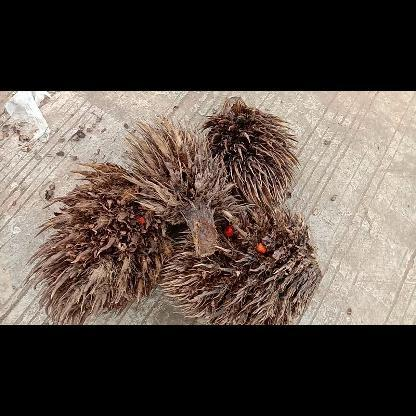Janjang kosong: (29, 162, 174, 324), (160, 210, 322, 324), (124, 116, 238, 257), (200, 97, 301, 209)
